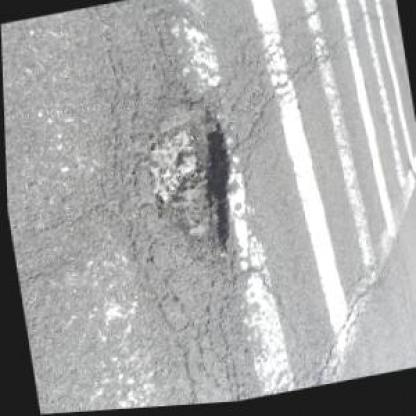pothole: (129, 76, 247, 278)
